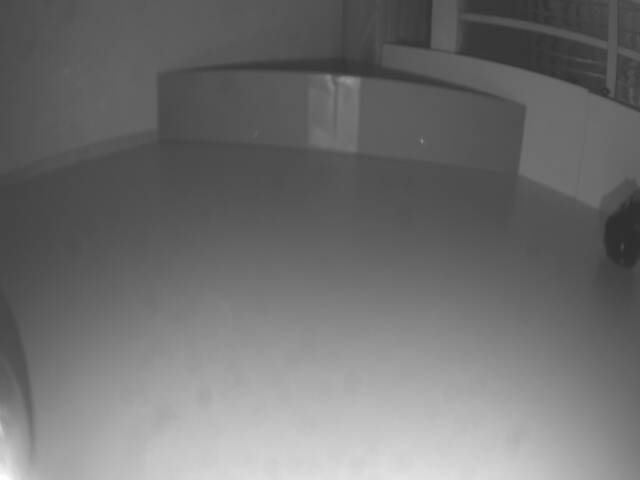Green: (163, 74, 518, 177)
